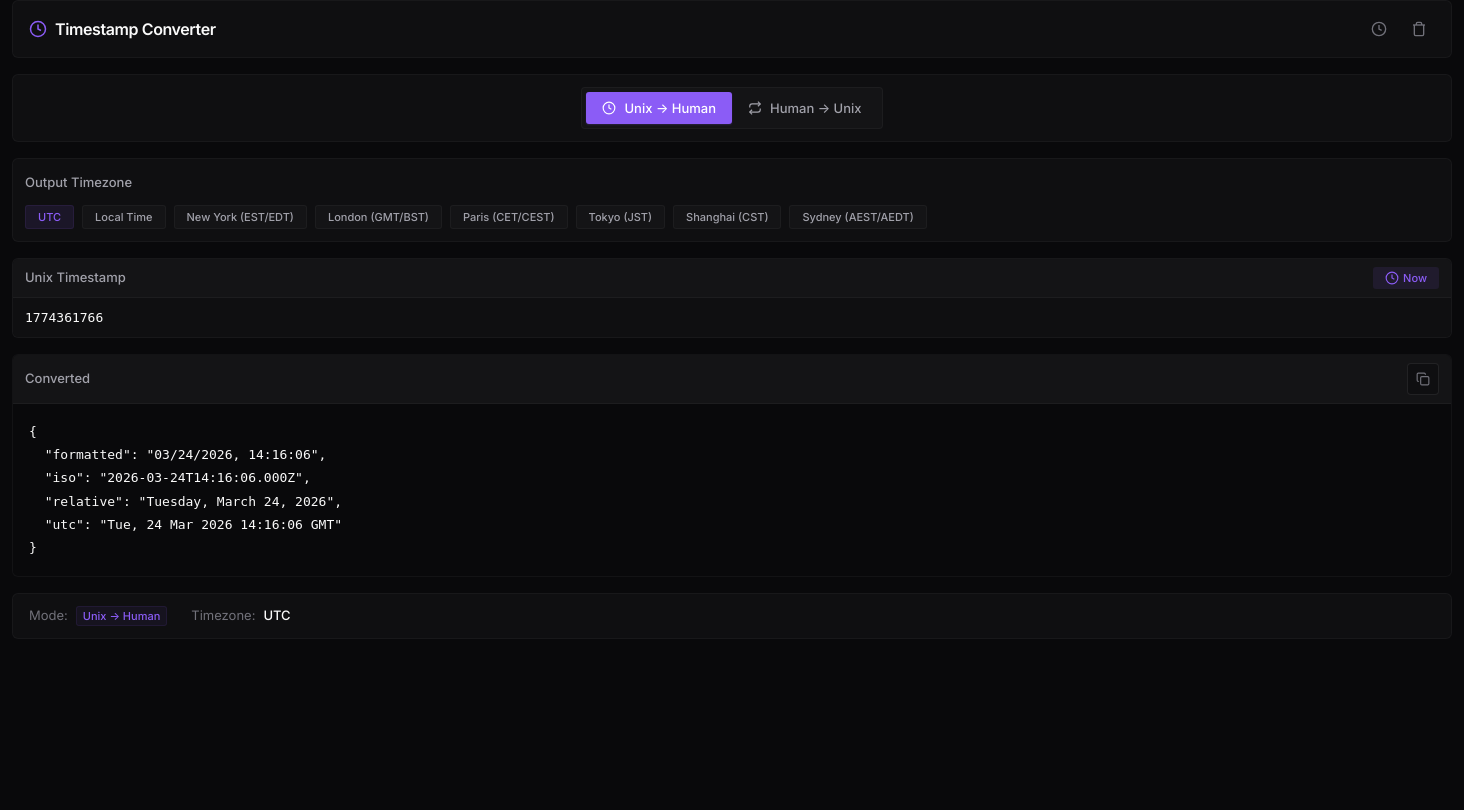
Test: TimestampTool › converts human readable date to Unix timestamp
Click the button "Human → Unix" at [805, 108], box [732, 92, 878, 124]
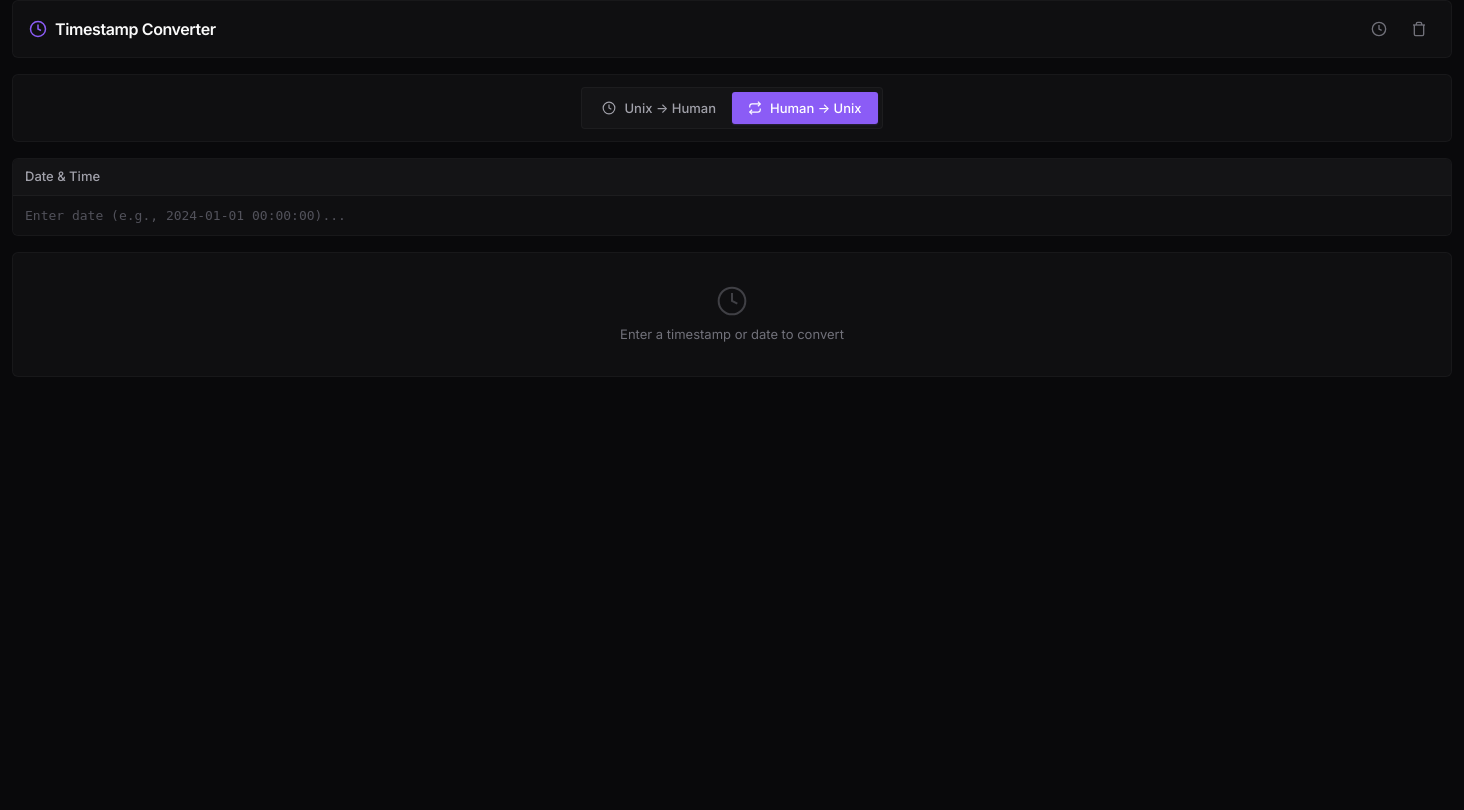
Type "2024-01-15 14:30:00" into the field with placeholder "Enter date (e.g., 2024-01-01 00:00:00)..." at [732, 215], box [13, 196, 1451, 234]
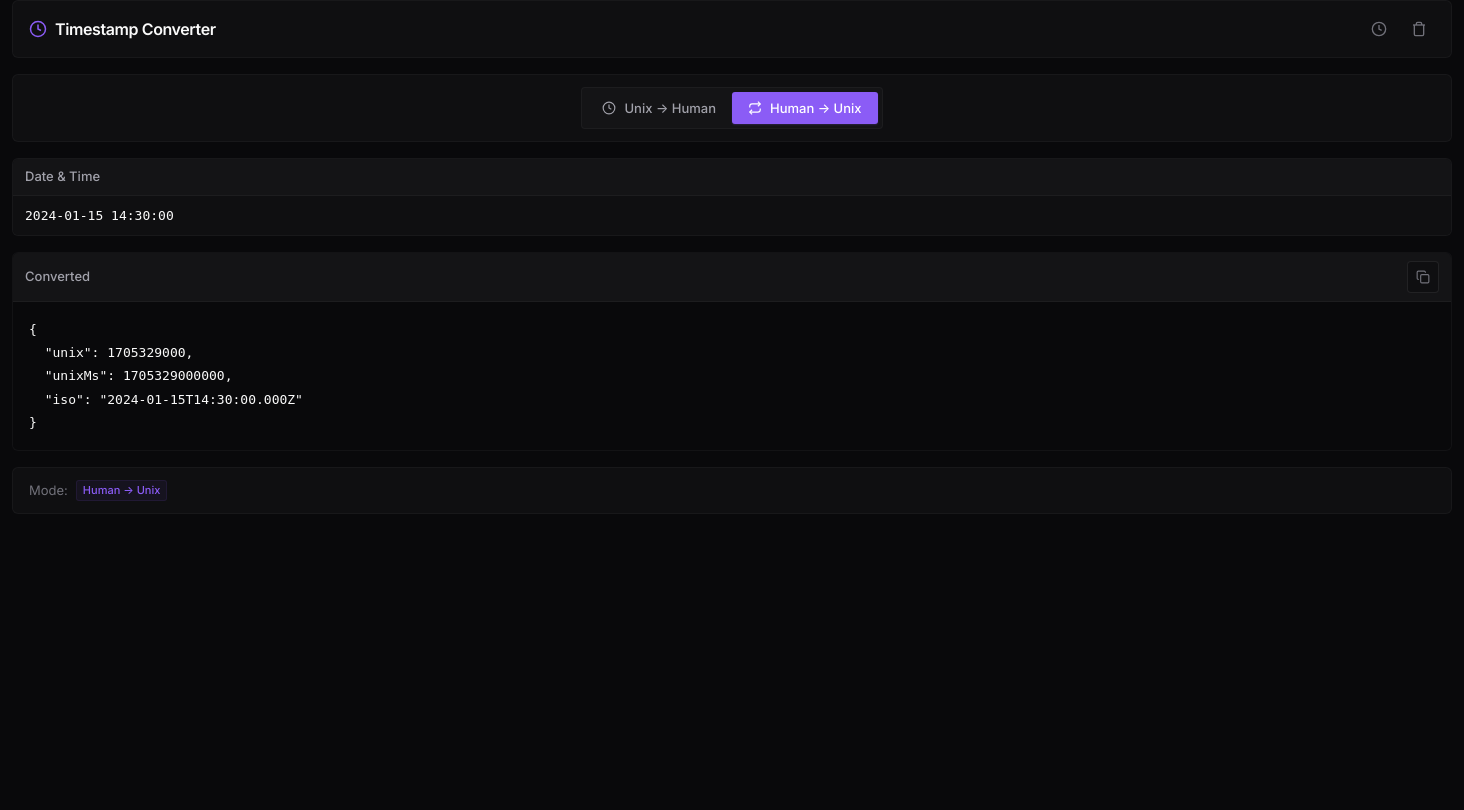
Now the text "unix" is shown, box [29, 322, 303, 430]
